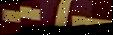scratch: (19, 0, 93, 33)
